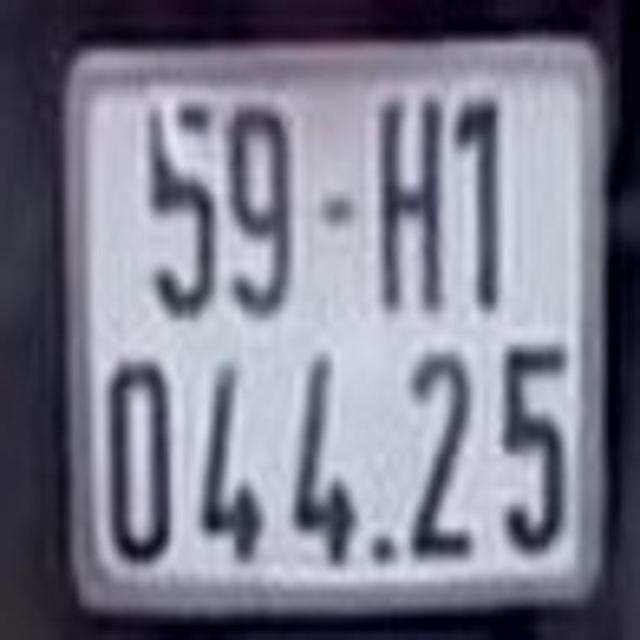0: (107, 357, 173, 562)
1: (453, 99, 505, 312)
2: (409, 351, 474, 558)
4: (293, 357, 355, 564), (202, 364, 262, 562)
5: (146, 105, 219, 318), (501, 344, 569, 554)
9: (227, 106, 292, 317)
H: (378, 96, 445, 314)
